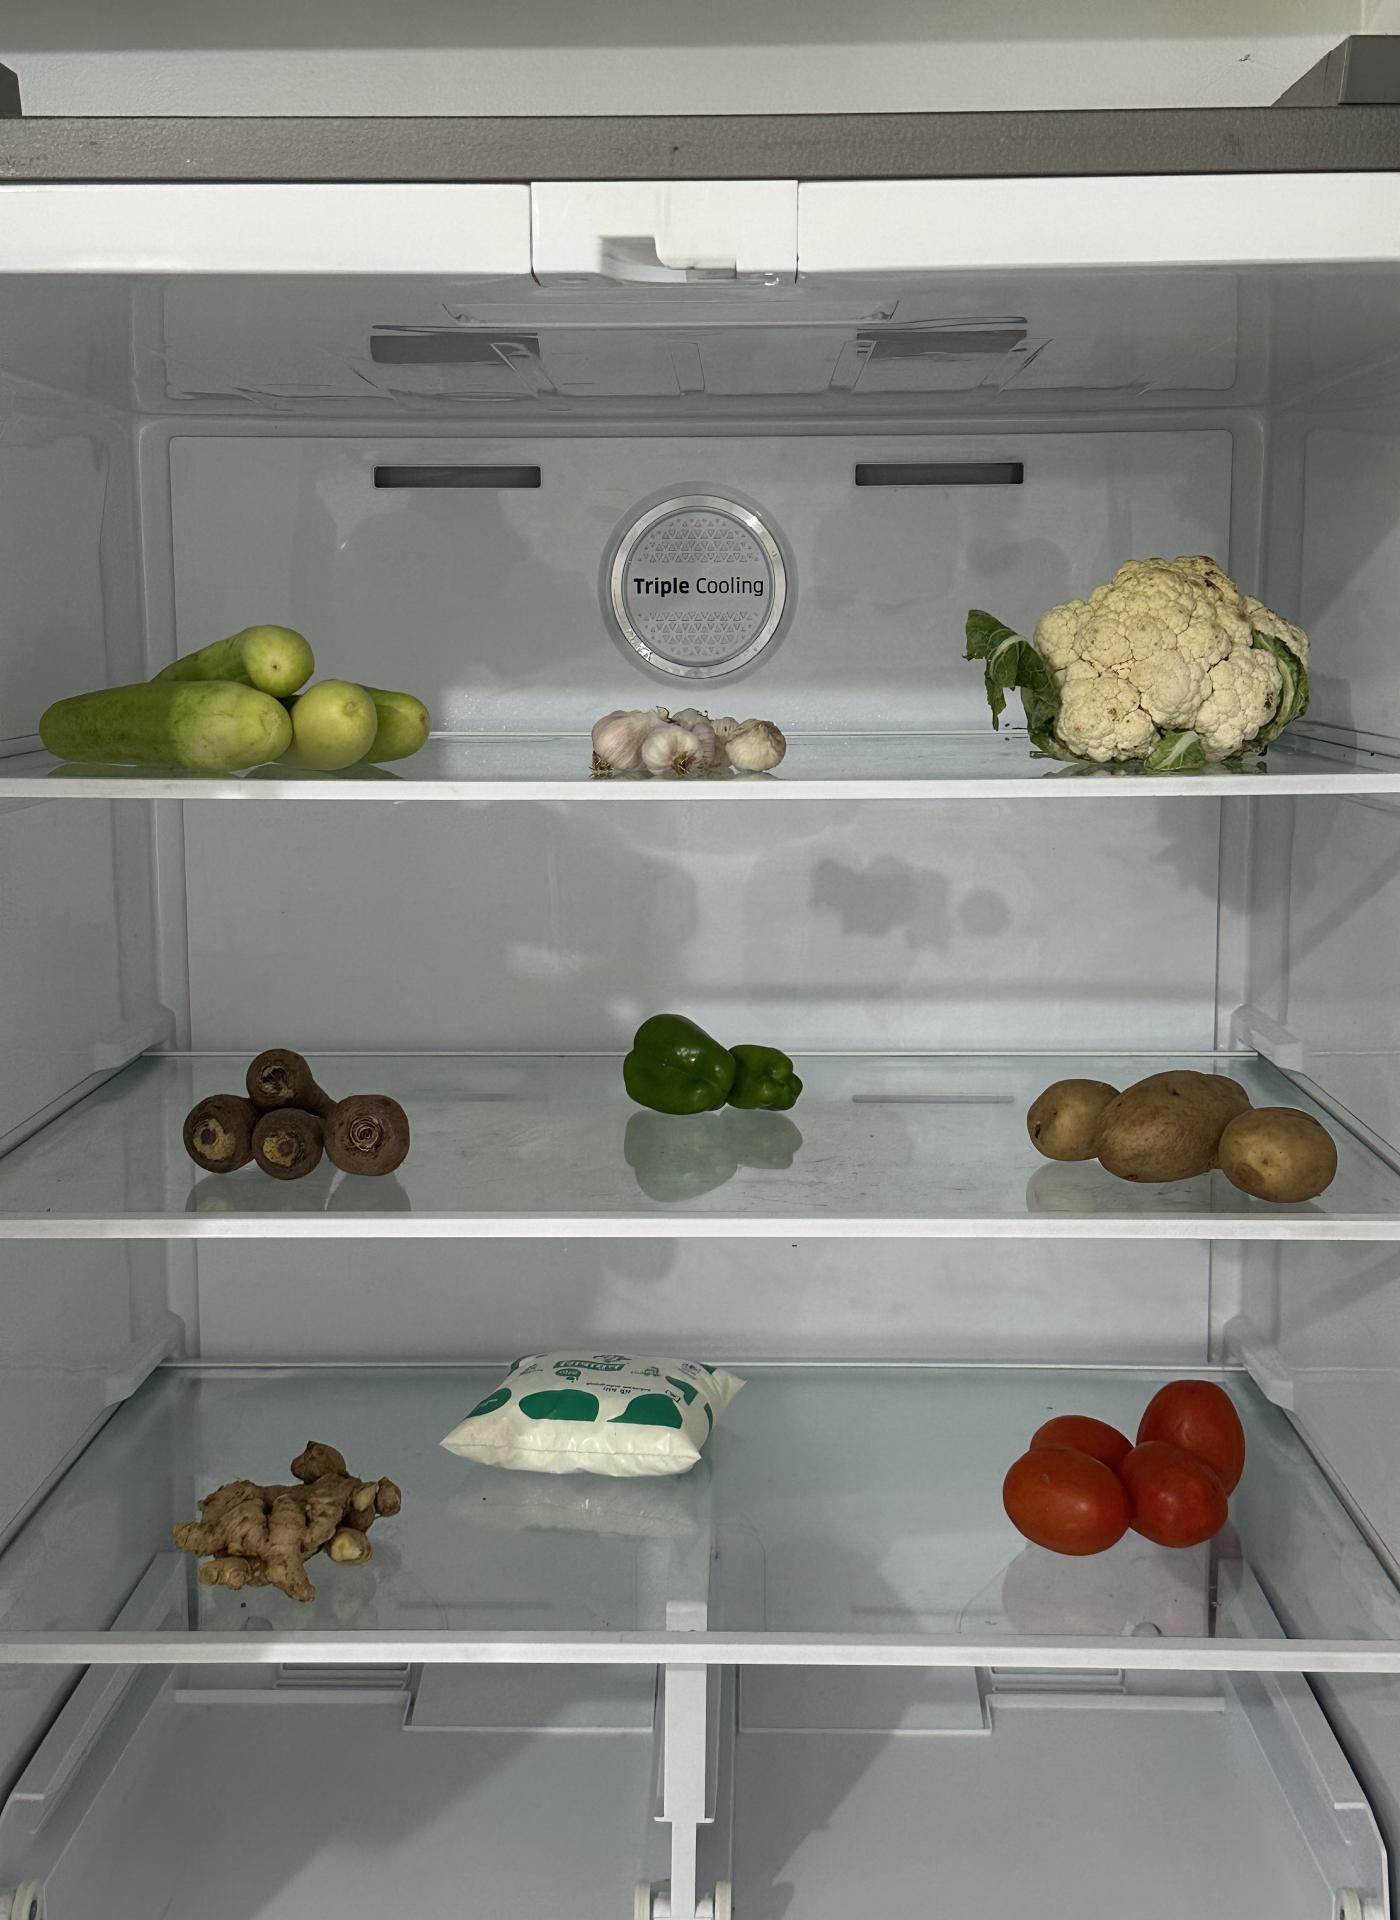capsicum: (617, 1005, 807, 1124)
carrots: (182, 1045, 414, 1188)
cauliflower: (1030, 546, 1312, 769)
cucumber: (48, 620, 434, 790)
garlic: (581, 698, 798, 780)
milk: (449, 1349, 748, 1483), (176, 1430, 404, 1598)
potato: (1021, 1061, 1334, 1204)
tomato: (996, 1373, 1248, 1558)
